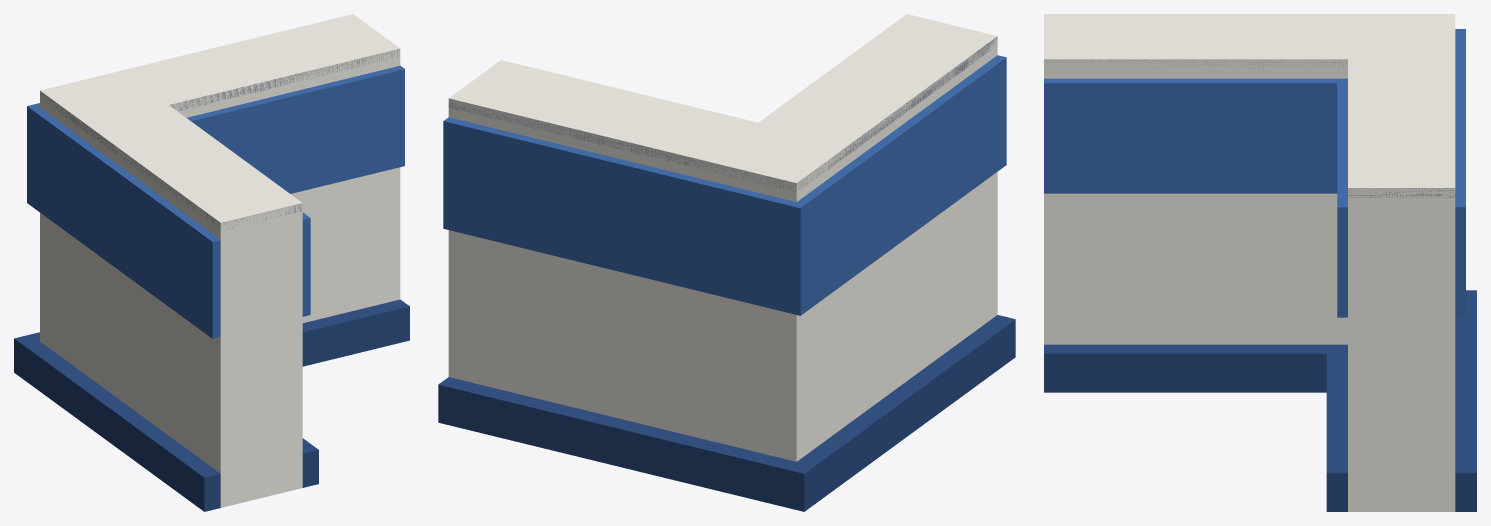
File: partition-elbow.glb
The picture shows the model from 3 angles, left to right: view 1: azimuth 30°, elevation 25°; view 2: azimuth 150°, elevation 25°; view 3: azimuth 270°, elevation 25°; orthographic projection. The views are drawn at different scales.
Parts seen in each view (by area): view 1: partition-elbow; view 2: partition-elbow; view 3: partition-elbow.
Part boxes in pixels (<box>): partition-elbow: <box>14,14,409,511</box>; partition-elbow: <box>438,14,1015,511</box>; partition-elbow: <box>1044,14,1476,511</box>.
Size of the model in its own units: 0.605 by 0.5 by 0.605.
Materials: 1 (1 with a texture image).
